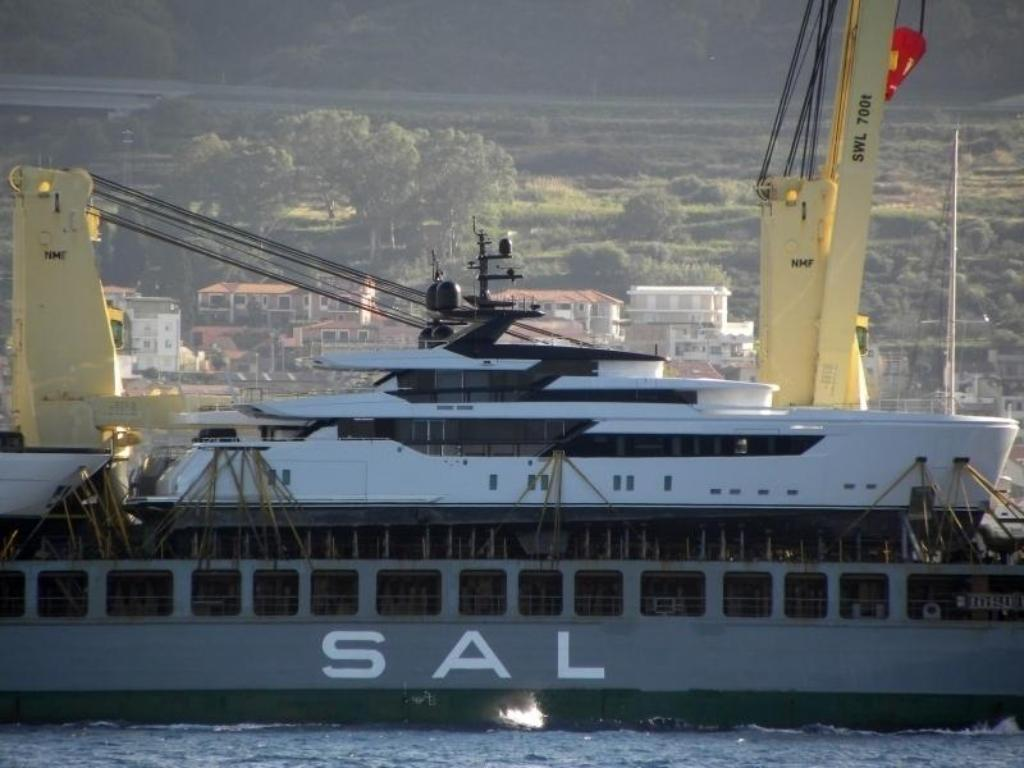PassengerShip: (10, 229, 1018, 734)
